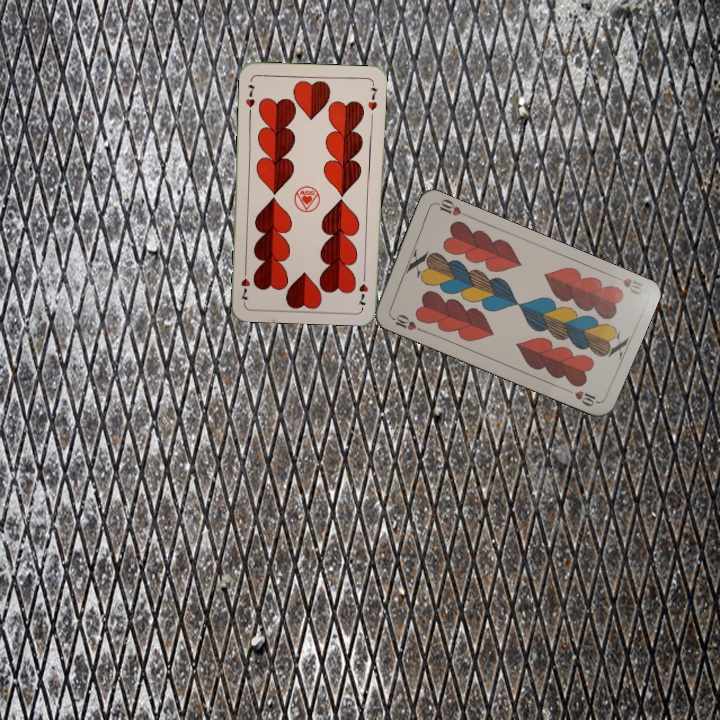H10: (608, 271, 646, 297), (386, 310, 425, 334)
H7: (242, 80, 258, 117), (355, 269, 370, 308)
